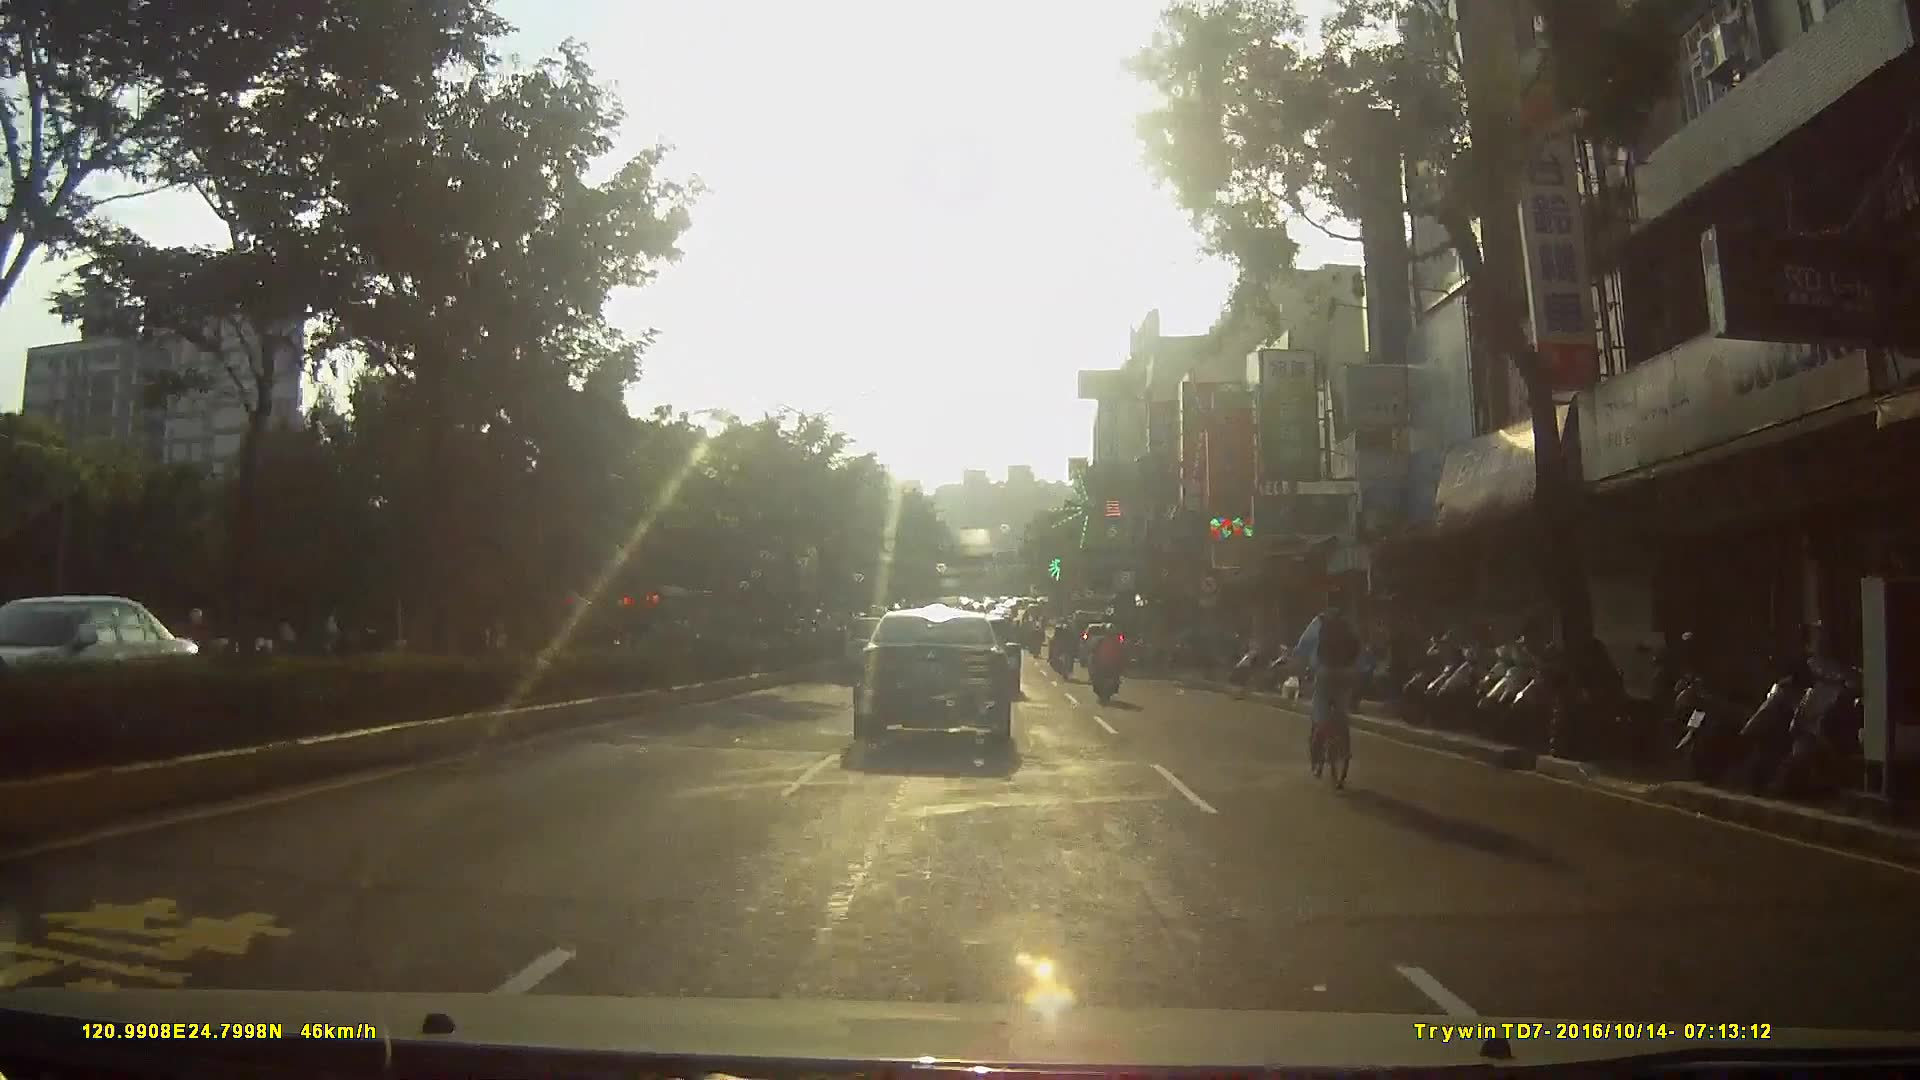rider: (1291, 584, 1373, 783), (1088, 624, 1123, 708), (1049, 621, 1076, 681)
vehicle: (853, 604, 1031, 767), (1, 598, 227, 706)
